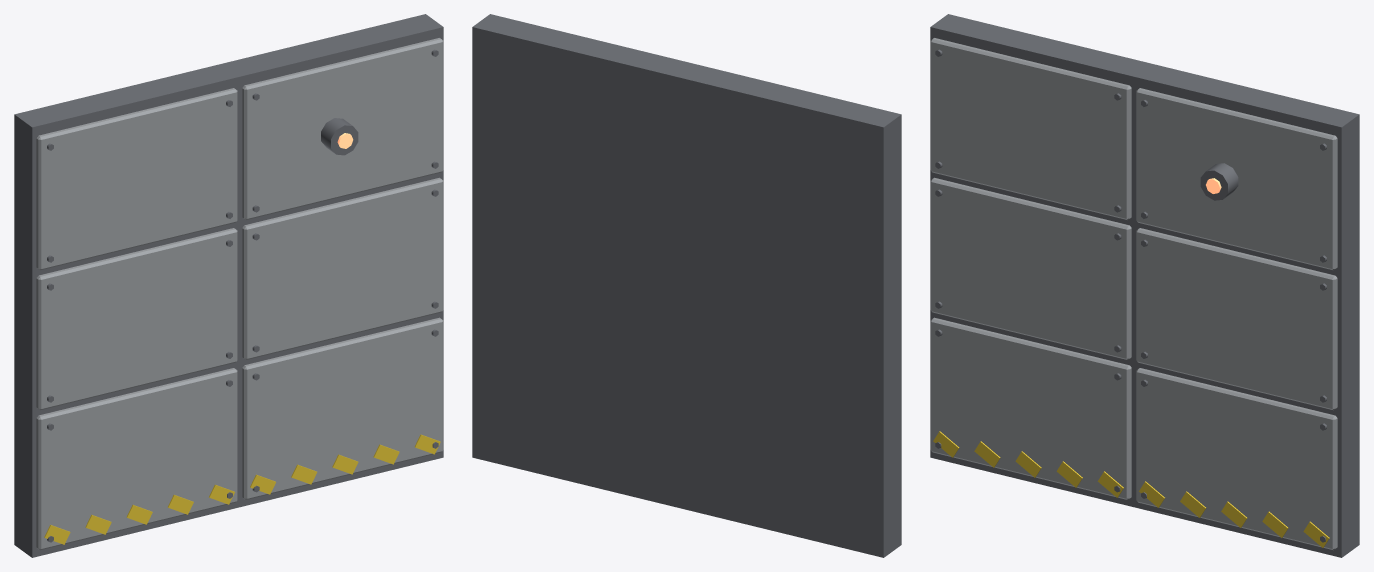
The model's file is wall_hm_steel.glb.
3 renders of one model, left to right at view 1: azimuth 30°, elevation 25°; view 2: azimuth 150°, elevation 25°; view 3: azimuth 330°, elevation 25°, orthographic.
Parts seen in each view (by area): view 1: wall_hm_steel; view 2: wall_hm_steel; view 3: wall_hm_steel.
Part boxes in pixels (left/top/right/bottom): wall_hm_steel: left=14, top=14, right=443, bottom=557; wall_hm_steel: left=472, top=14, right=901, bottom=557; wall_hm_steel: left=930, top=14, right=1359, bottom=557.
Size of the model in its own units: 4 by 4 by 0.565.
